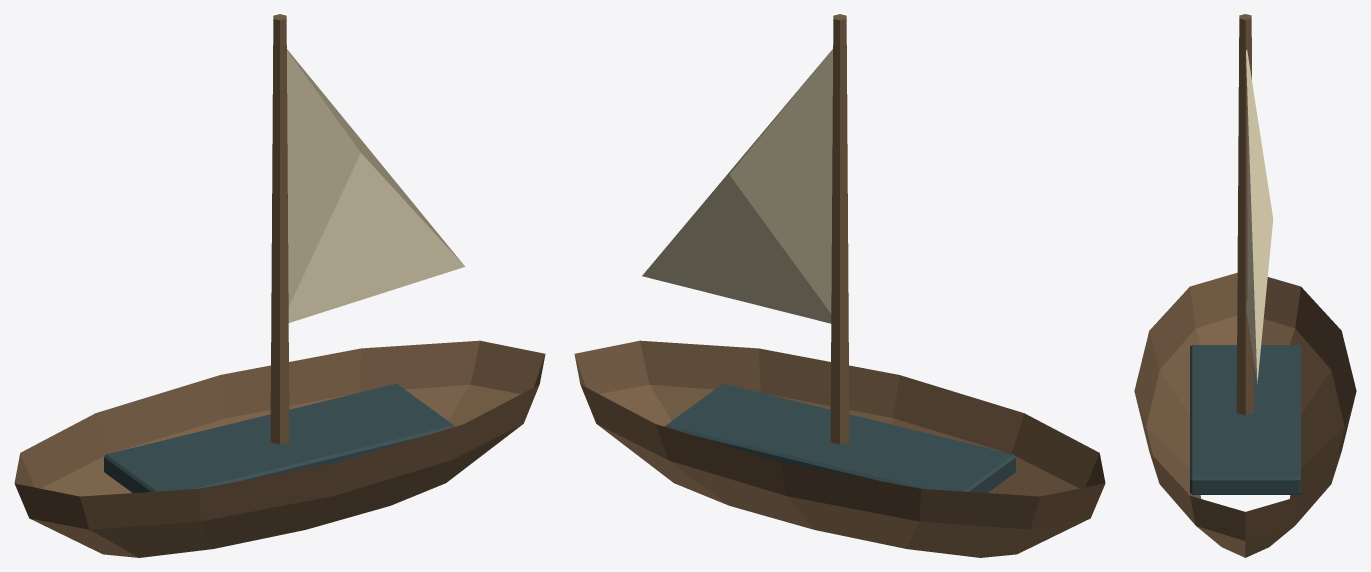
Rendered from fishing-boat.glb.
The picture shows the model from 3 angles, left to right: view 1: azimuth 30°, elevation 25°; view 2: azimuth 150°, elevation 25°; view 3: azimuth 270°, elevation 25°; orthographic projection. The views are drawn at different scales.
Visible parts, largest first — view 1: Clinker hull, Linen sail, Cube, Tapered form; view 2: Clinker hull, Linen sail, Cube, Tapered form; view 3: Clinker hull, Cube, Linen sail, Tapered form.
Boxes of the visible parts, bbox=[...] form: Clinker hull: bbox=[14, 340, 545, 557]; Linen sail: bbox=[287, 49, 464, 322]; Cube: bbox=[104, 383, 455, 492]; Tapered form: bbox=[270, 14, 289, 444]; Clinker hull: bbox=[574, 340, 1105, 557]; Linen sail: bbox=[642, 49, 832, 323]; Cube: bbox=[664, 383, 1015, 492]; Tapered form: bbox=[830, 14, 849, 444]; Clinker hull: bbox=[1134, 272, 1356, 557]; Cube: bbox=[1190, 345, 1300, 494]; Linen sail: bbox=[1246, 50, 1273, 383]; Tapered form: bbox=[1236, 14, 1254, 414].
Size of the model in its own units: 0.72 by 0.64 by 0.28.
